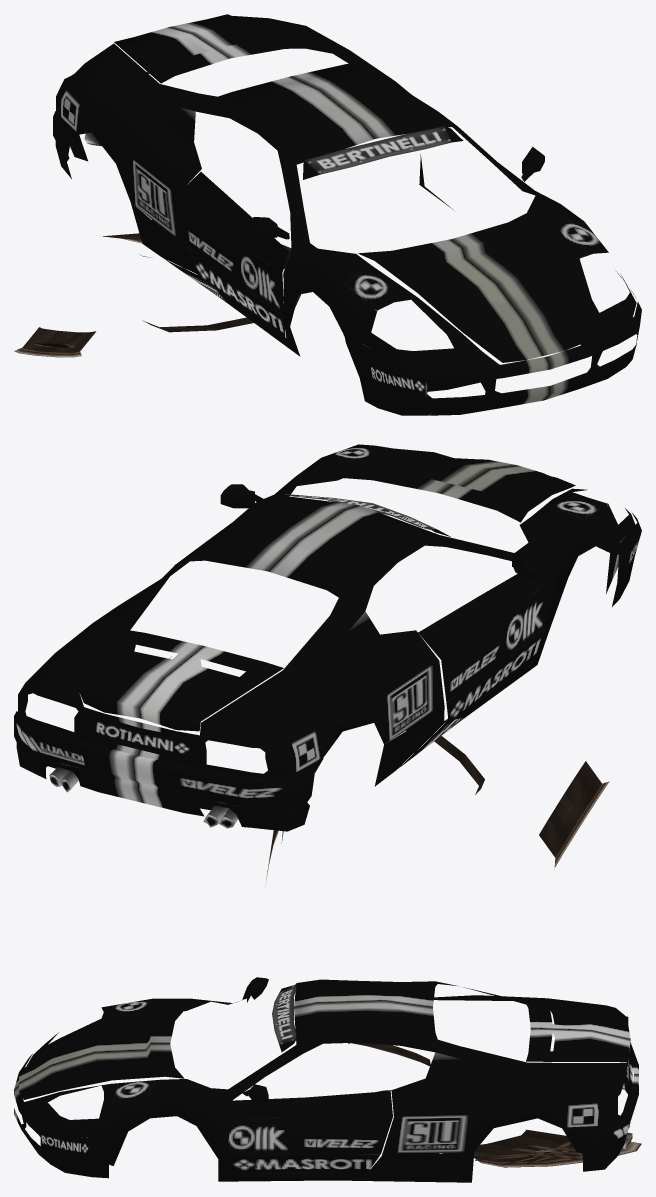
File: car-SUPR_Car6.glb
3 renders of one model, top to bottom at view 1: azimuth 30°, elevation 25°; view 2: azimuth 150°, elevation 25°; view 3: azimuth 270°, elevation 25°, orthographic. The views are drawn at different scales.
Visible parts, largest first — view 1: SUPR_Car6; view 2: SUPR_Car6; view 3: SUPR_Car6.
Boxes of the visible parts, x1,y1,x2,y2 form: SUPR_Car6: (14, 14, 641, 415); SUPR_Car6: (14, 444, 641, 886); SUPR_Car6: (14, 977, 641, 1182).
Bounding box in the file's own units: 2.98 × 1.66 × 4.72.
Materials: 10 (10 with a texture image).
